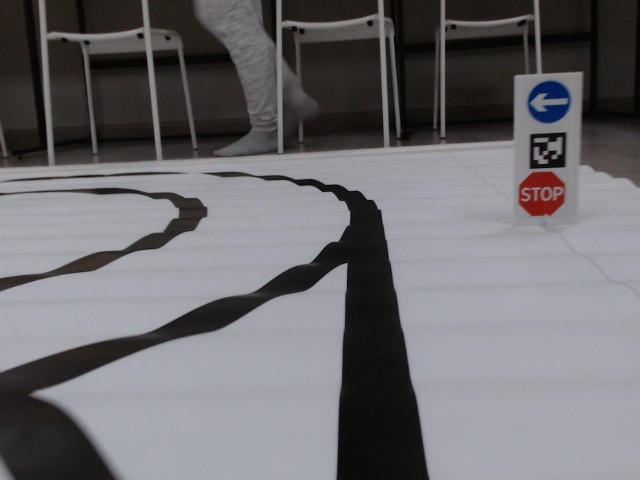Stop: (517, 170, 567, 217)
